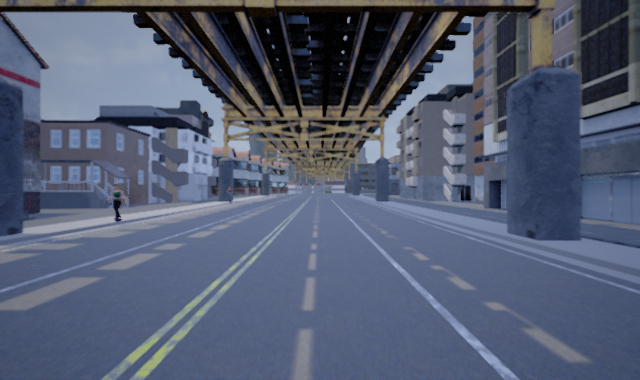pedestrian: (108, 182, 126, 222), (225, 185, 234, 202)
